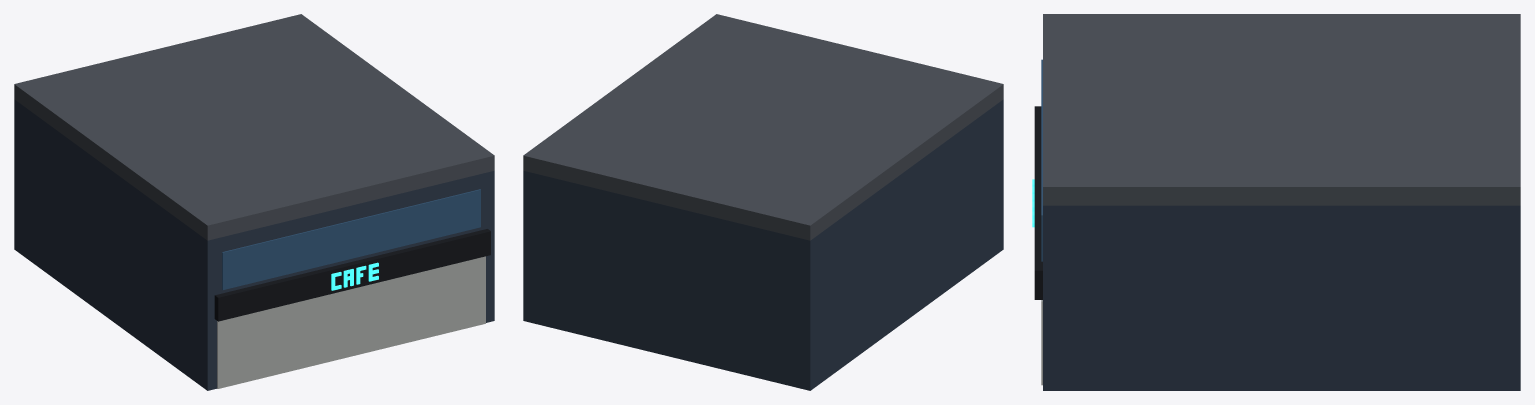
Rendered from bld_dt_retail_a.glb.
3 renders of one model, left to right at view 1: azimuth 30°, elevation 25°; view 2: azimuth 150°, elevation 25°; view 3: azimuth 270°, elevation 25°, orthographic. The views are drawn at different scales.
Visible parts, largest first — view 1: bld_dt_retail_a; view 2: bld_dt_retail_a; view 3: bld_dt_retail_a.
Part boxes in pixels (x1,y1,x2,y2): bld_dt_retail_a: [14, 14, 494, 390]; bld_dt_retail_a: [523, 14, 1003, 390]; bld_dt_retail_a: [1032, 14, 1520, 390].
Size of what is drawn, in the model's own units: 12 by 6.6 by 14.31.
